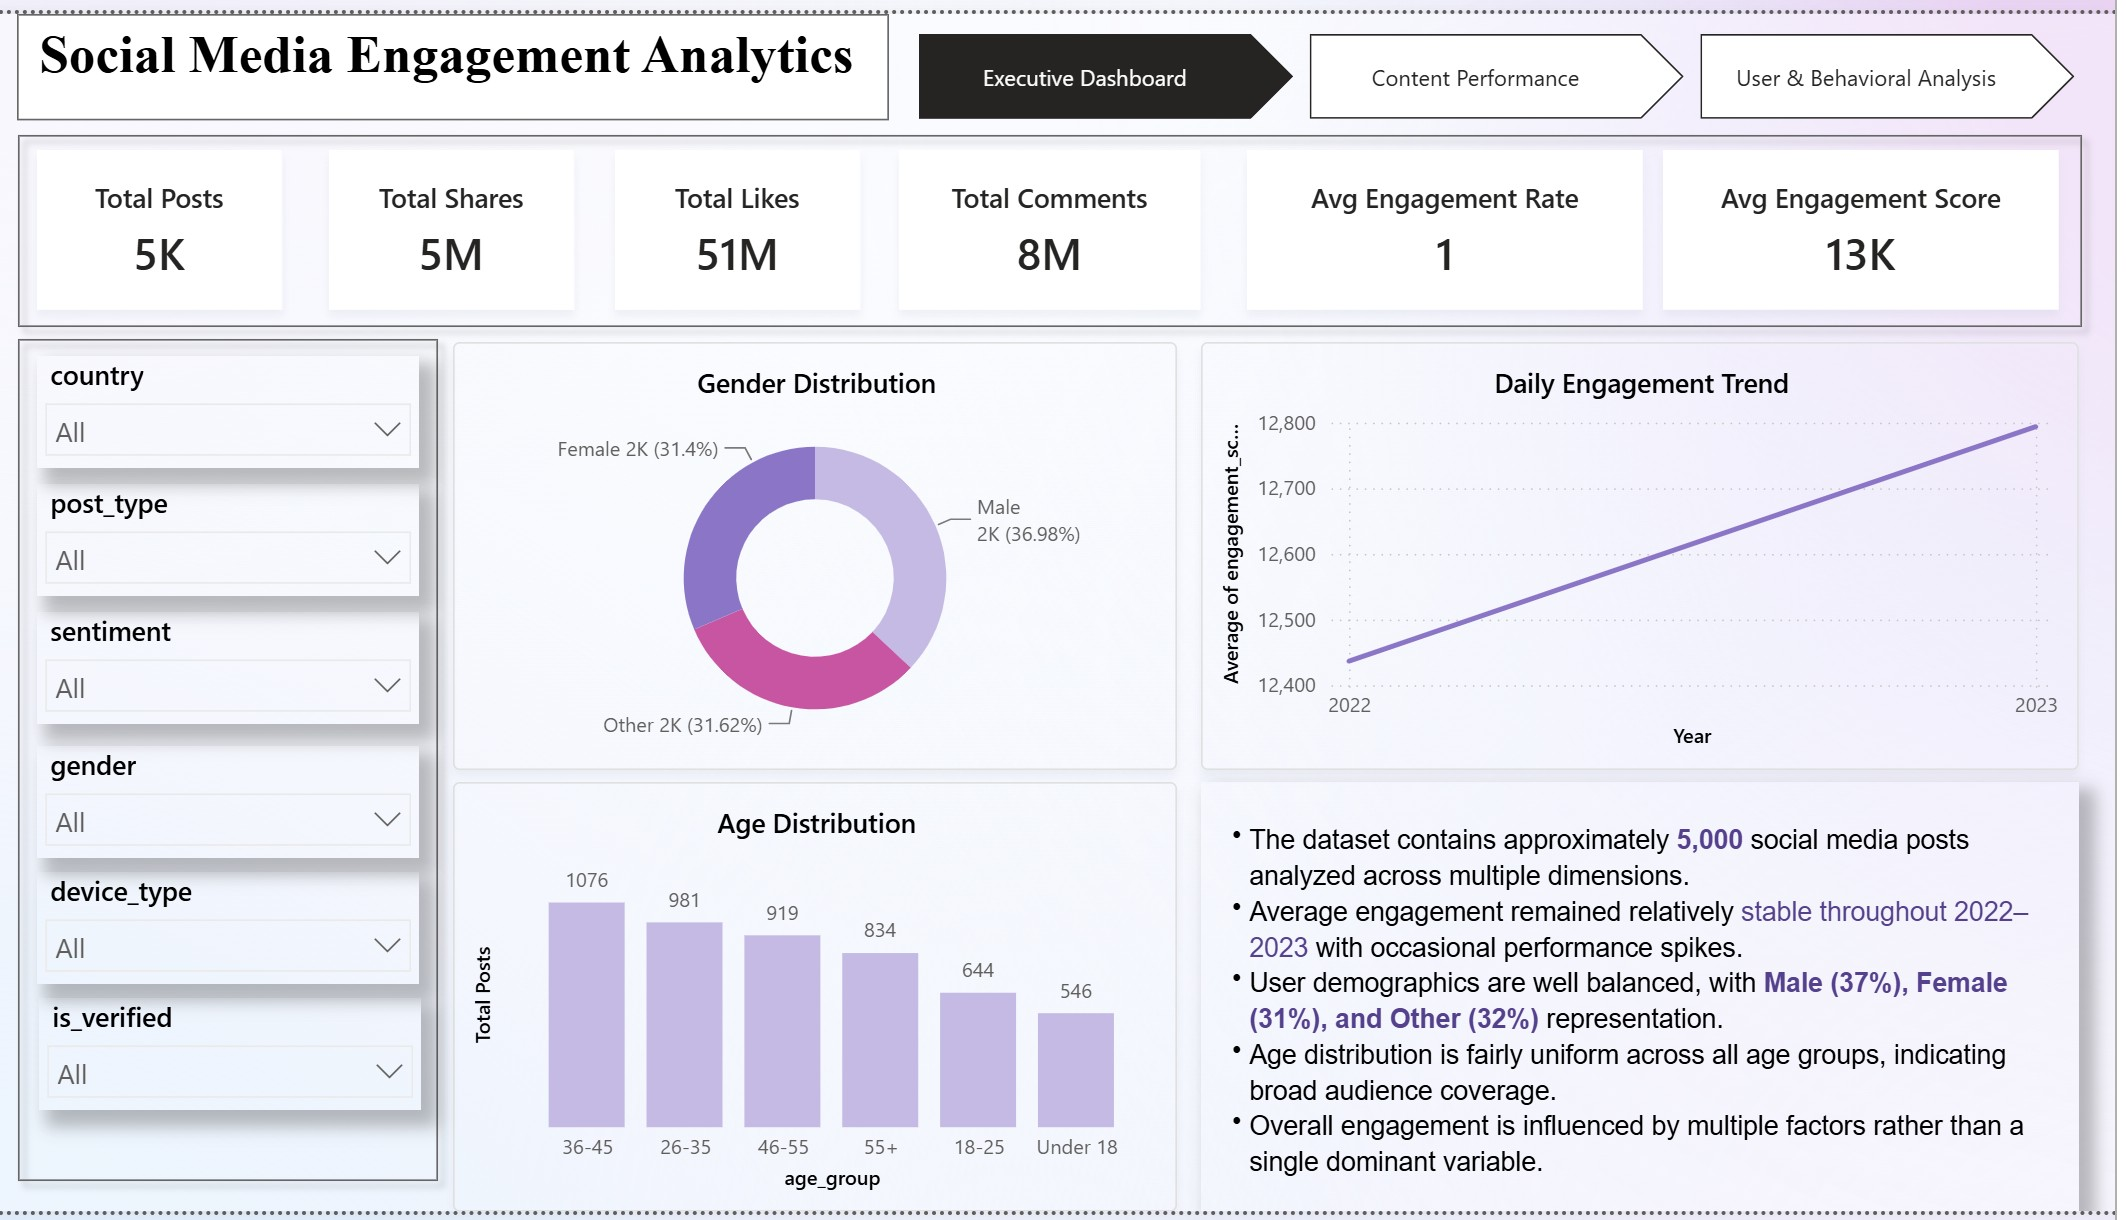

This screenshot's page, from the dashboard's own definition file:
{"tool":"powerbi","page":{"name":"Executive Dashboard","canvas":[1280,720],"ordinal":0},"visuals":[{"type":"textbox","box":[18,0,524.5,63.8],"z":0},{"type":"shape","box":[9.6,63.8,1259.5,133.5],"z":1000},{"type":"cardVisual","fields":{"Data":["DAX_Measures.Total Posts"]},"box":[30.1,81.8,148,96.2],"z":2000},{"type":"cardVisual","fields":{"Data":["DAX_Measures.Avg Engagement Rate"]},"box":[757.9,81.8,238.2,96.2],"z":3000},{"type":"cardVisual","fields":{"Data":["DAX_Measures.Total Shares"]},"box":[205.7,81.8,148,96.2],"z":4000},{"type":"cardVisual","fields":{"Data":["DAX_Measures.Total Likes"]},"box":[377.7,81.8,148,96.2],"z":5000},{"type":"cardVisual","fields":{"Data":["DAX_Measures.Total Comments"]},"box":[548.6,81.8,181.7,96.2],"z":6000},{"type":"cardVisual","fields":{"Data":["DAX_Measures.Avg Engagement Score"]},"box":[1008.1,81.8,238.2,96.2],"z":7000},{"type":"lineChart","title":"Daily Engagement Trend","fields":{"Category":["dataset.posted_at.Variation.Date Hierarchy.Year","dataset.posted_at.Variation.Date Hierarchy.Quarter","dataset.posted_at.Variation.Date Hierarchy.Month","dataset.posted_at.Variation.Date Hierarchy.Day"],"Y":["Avg(dataset.engagement_score)"]},"box":[730.2,197.3,528.1,257.4],"z":8000},{"type":"donutChart","title":"Gender Distribution","fields":{"Category":["dataset.gender"],"Y":["DAX_Measures.Total Posts"]},"box":[280.3,197.3,435.5,257.4],"z":9000},{"type":"clusteredColumnChart","title":"Age Distribution","fields":{"Category":["dataset.age_group"],"Y":["DAX_Measures.Total Posts"]},"box":[280.3,462,435.5,258.6],"z":10000},{"type":"shape","box":[9.6,186.5,270.7,524.5],"z":11000},{"type":"pageNavigator","box":[560.6,12,697.7,51.7],"z":12000},{"type":"slicer","fields":{"Values":["dataset.country"]},"box":[30.1,205.7,229.8,67.4],"z":12001},{"type":"slicer","fields":{"Values":["dataset.post_type"]},"box":[30.1,282.7,229.8,67.4],"z":12002},{"type":"slicer","fields":{"Values":["dataset.sentiment"]},"box":[30.1,359.7,229.8,67.4],"z":12003},{"type":"slicer","fields":{"Values":["dataset.gender"]},"box":[30.1,440.3,229.8,67.4],"z":12004},{"type":"slicer","fields":{"Values":["dataset.device_type"]},"box":[30.1,516.1,229.8,67.4],"z":12006},{"type":"slicer","fields":{"Values":["dataset.is_verified"]},"box":[31.3,591.9,229.8,67.4],"z":12007}]}

Visuals, with their boxes in screenshot pixels (x1, y1, x2, y2), scaled from the page's 1280x720 canvas onto the 2126x1220 screenshot:
textbox: x1=30 y1=0 x2=901 y2=108
shape: x1=16 y1=108 x2=2108 y2=334
cardVisual - DAX_Measures.Total Posts: x1=50 y1=139 x2=296 y2=302
cardVisual - DAX_Measures.Avg Engagement Rate: x1=1259 y1=139 x2=1654 y2=302
cardVisual - DAX_Measures.Total Shares: x1=342 y1=139 x2=587 y2=302
cardVisual - DAX_Measures.Total Likes: x1=627 y1=139 x2=873 y2=302
cardVisual - DAX_Measures.Total Comments: x1=911 y1=139 x2=1213 y2=302
cardVisual - DAX_Measures.Avg Engagement Score: x1=1674 y1=139 x2=2070 y2=302
"Daily Engagement Trend" lineChart: x1=1213 y1=334 x2=2090 y2=770
"Gender Distribution" donutChart: x1=466 y1=334 x2=1189 y2=770
"Age Distribution" clusteredColumnChart: x1=466 y1=783 x2=1189 y2=1219
shape: x1=16 y1=316 x2=466 y2=1205
pageNavigator: x1=931 y1=20 x2=2090 y2=108
slicer - dataset.country: x1=50 y1=349 x2=432 y2=463
slicer - dataset.post_type: x1=50 y1=479 x2=432 y2=593
slicer - dataset.sentiment: x1=50 y1=609 x2=432 y2=724
slicer - dataset.gender: x1=50 y1=746 x2=432 y2=860
slicer - dataset.device_type: x1=50 y1=875 x2=432 y2=989
slicer - dataset.is_verified: x1=52 y1=1003 x2=434 y2=1117
